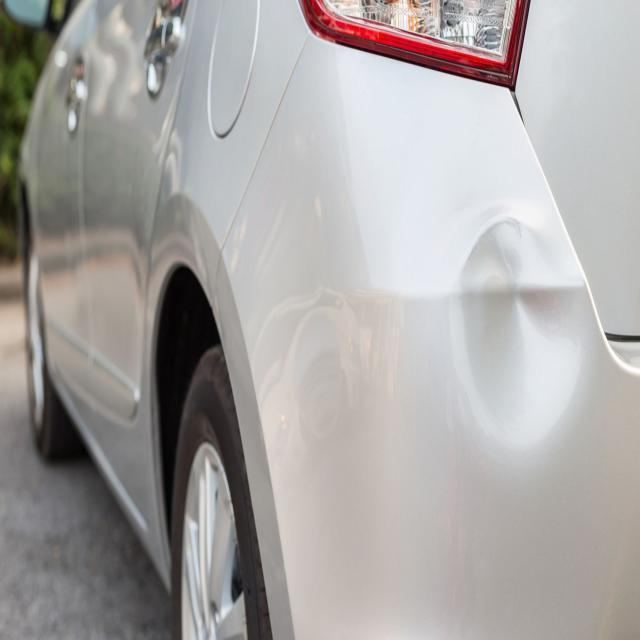car damage: (438, 193, 599, 451)
